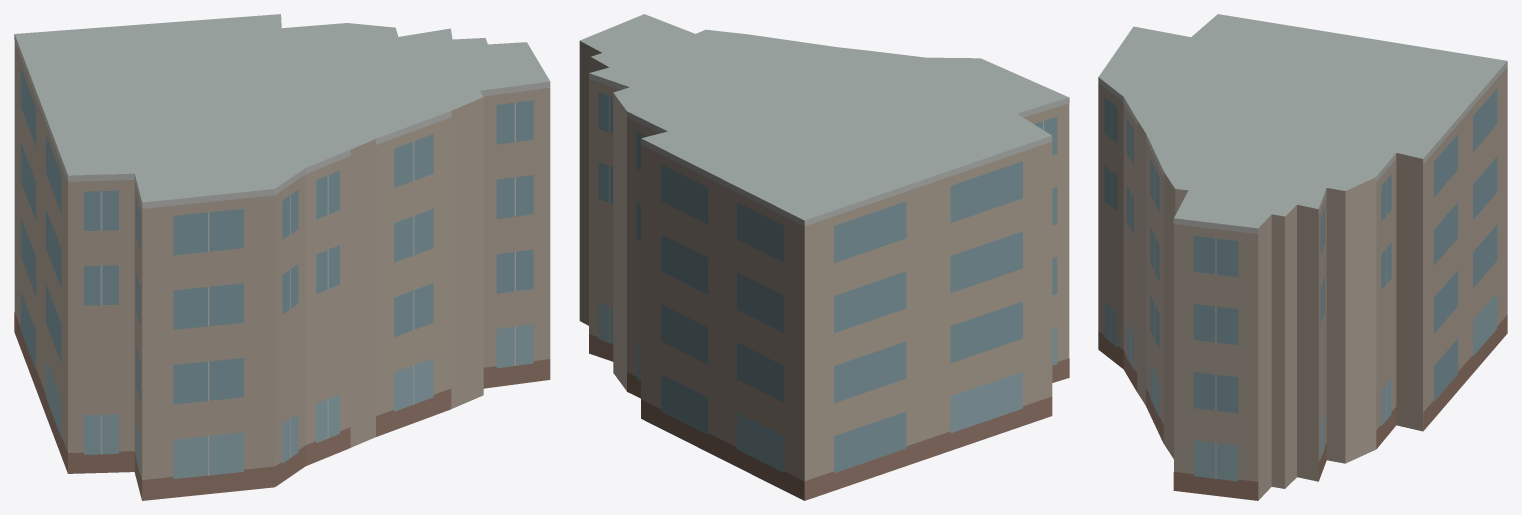
File: survey-upis-32779400.glb
3 views of the same model, side by side, from view 1: azimuth 30°, elevation 25°; view 2: azimuth 150°, elevation 25°; view 3: azimuth 270°, elevation 25° (orthographic). The views are drawn at different scales.
Visible parts, largest first — view 1: survey-upis-32779400.tmp; view 2: survey-upis-32779400.tmp; view 3: survey-upis-32779400.tmp.
Part boxes in pixels (x1,y1,x2,y2): survey-upis-32779400.tmp: (14, 14, 550, 500); survey-upis-32779400.tmp: (579, 14, 1069, 500); survey-upis-32779400.tmp: (1098, 14, 1507, 500).
Size of the model in its own units: 19.58 by 11.6 by 15.79.
